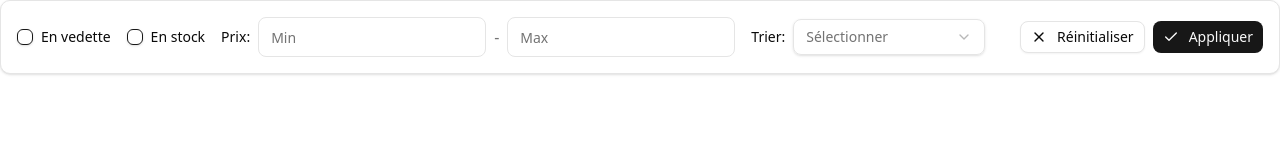
Test: ProductFilter Component › Réinitialisation du formulaire › devrait réinitialiser tous les champs du formulaire
The width and height of the screenshot is (1280, 160).
Click the checkbox named "en vedette" next to "En vedette".
click(25, 37)  # box top-left (17, 29), bottom-right (33, 45)
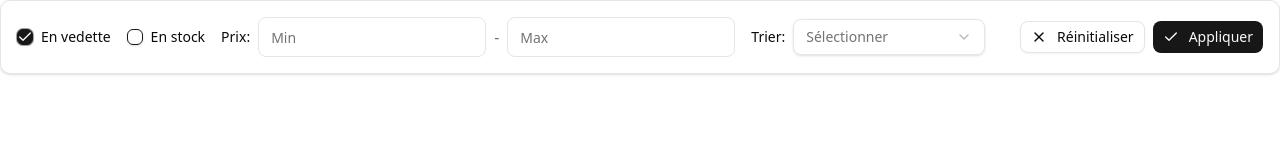
Click the checkbox named "en stock" next to "En stock".
click(135, 37)  # box top-left (127, 29), bottom-right (143, 45)
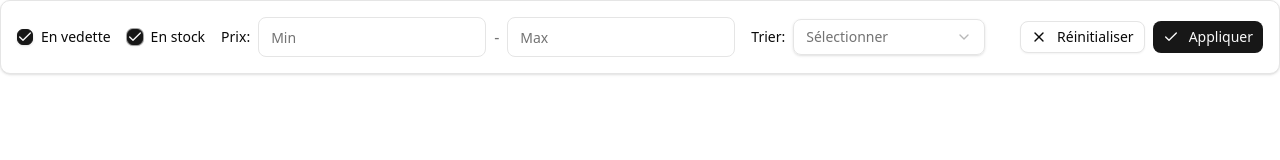
Type "50" into the number field with placeholder "Min".
click(372, 37); type("50")  # box top-left (258, 17), bottom-right (486, 57)
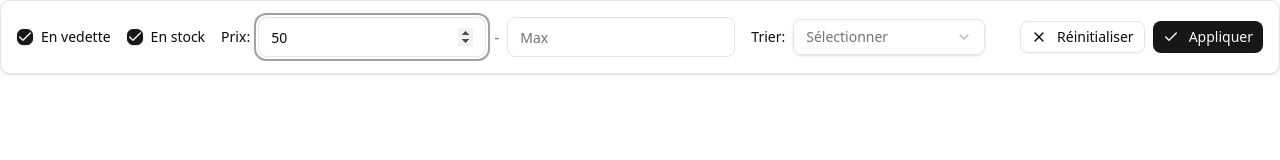
Type "200" into the number field with placeholder "Max".
click(621, 37); type("200")  # box top-left (507, 17), bottom-right (735, 57)
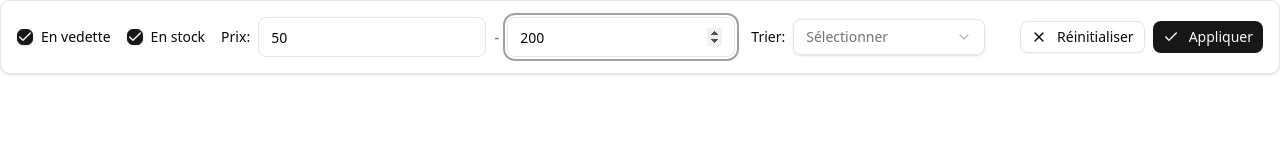
Check: the checkbox named "en vedette" next to "En vedette" is checked, box top-left (17, 29), bottom-right (33, 45)
Check: the checkbox named "en stock" next to "En stock" is checked, box top-left (127, 29), bottom-right (143, 45)
Click the button "Réinitialiser".
click(1082, 37)  # box top-left (1020, 21), bottom-right (1145, 53)
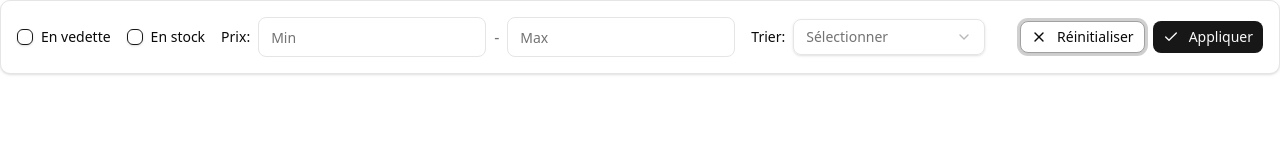
Check: the checkbox named "en vedette" next to "En vedette" is not checked, box top-left (17, 29), bottom-right (33, 45)
Check: the checkbox named "en stock" next to "En stock" is not checked, box top-left (127, 29), bottom-right (143, 45)
Check: the number field with placeholder "Min" is not empty, box top-left (258, 17), bottom-right (486, 57)
